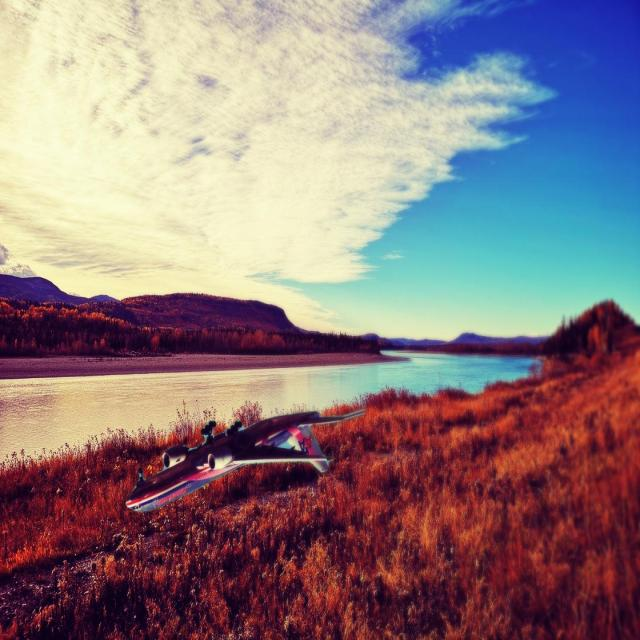airplane: (124, 407, 366, 513)
